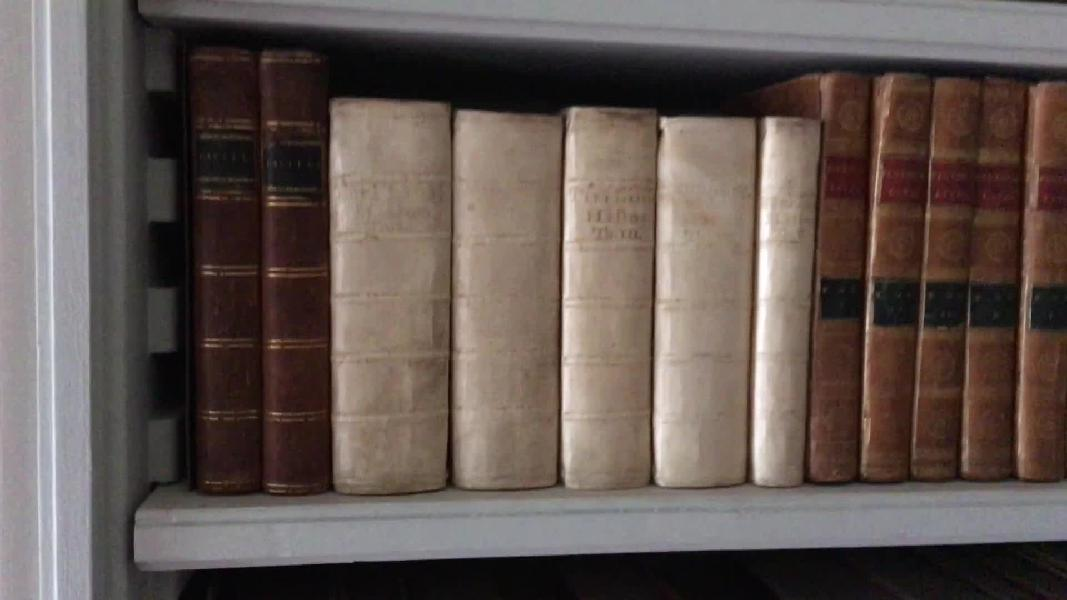Kk4-1_2: (190, 40, 329, 495)
Kk4-3_7: (331, 93, 811, 491)
Kk4-8_13: (814, 71, 1067, 486)
